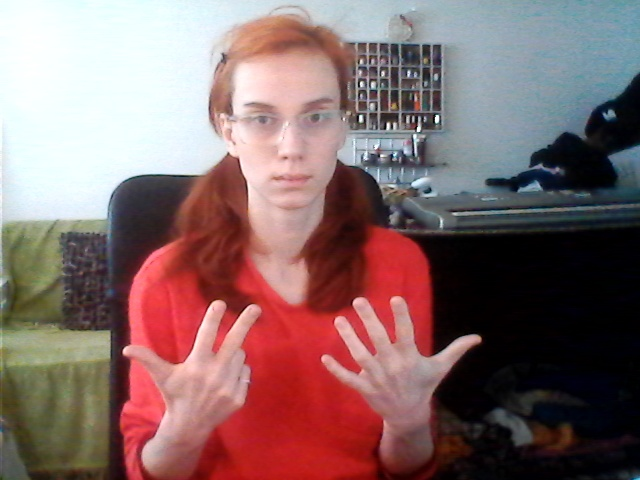osem: (123, 295, 486, 415)
